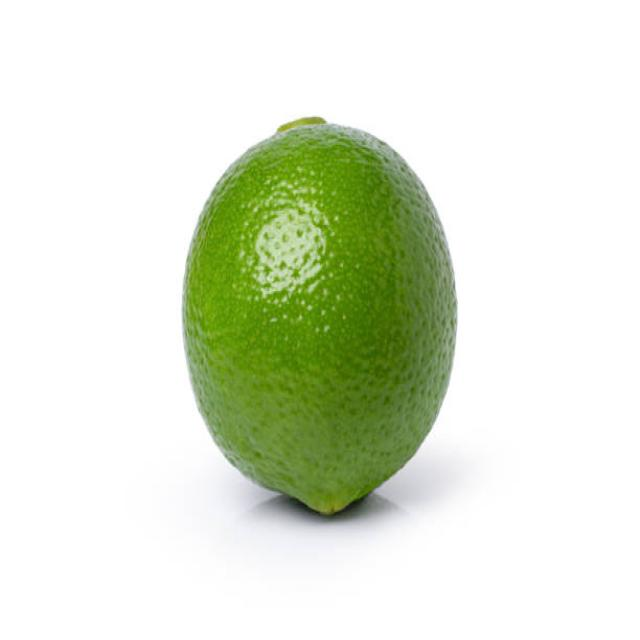Unripe: (182, 112, 459, 518)
